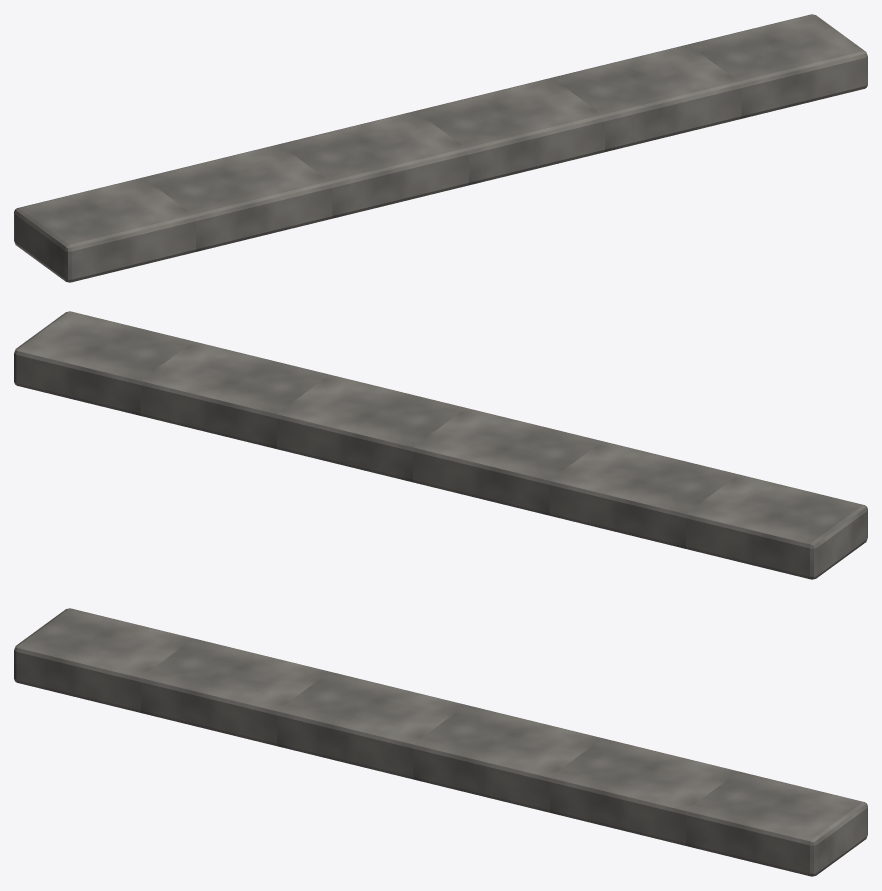
The model's file is Street_BlockR1_Coping.obj.
The picture shows the model from 3 angles, top to bottom: view 1: azimuth 30°, elevation 25°; view 2: azimuth 150°, elevation 25°; view 3: azimuth 330°, elevation 25°; orthographic projection.
Size of the model in its own units: 2.68 by 0.12 by 0.32.
Materials: 1 (1 with a texture image).
